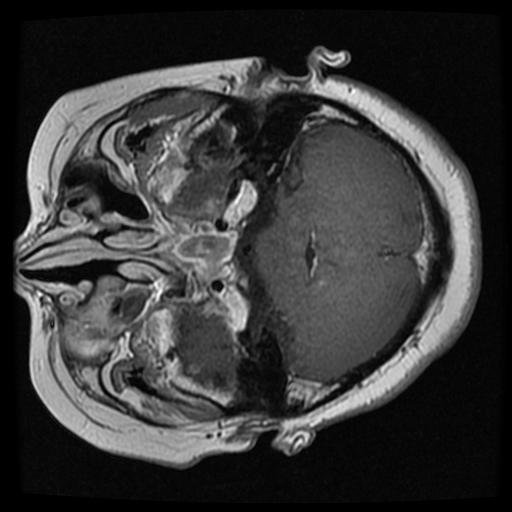pituitary tumour: (173, 231, 235, 263)
